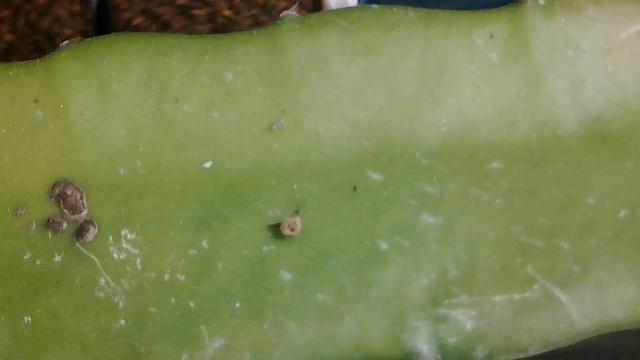stemcanker: (42, 174, 110, 252), (266, 205, 310, 244)
